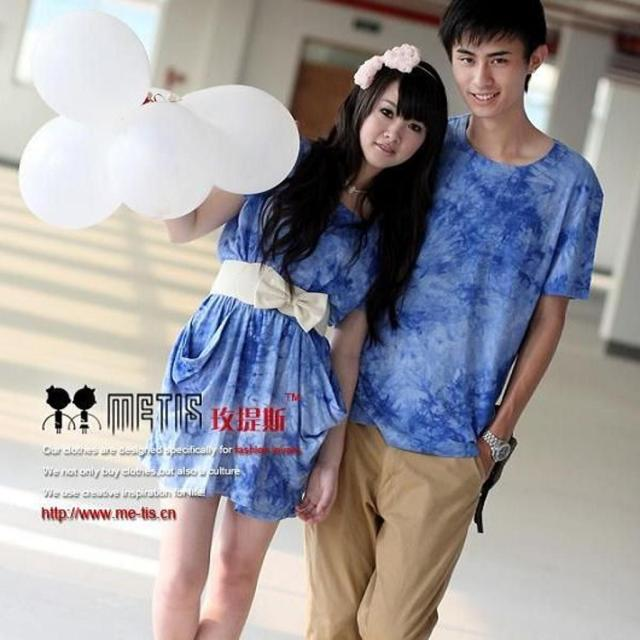Face: (450, 32, 524, 111), (364, 81, 426, 167)
